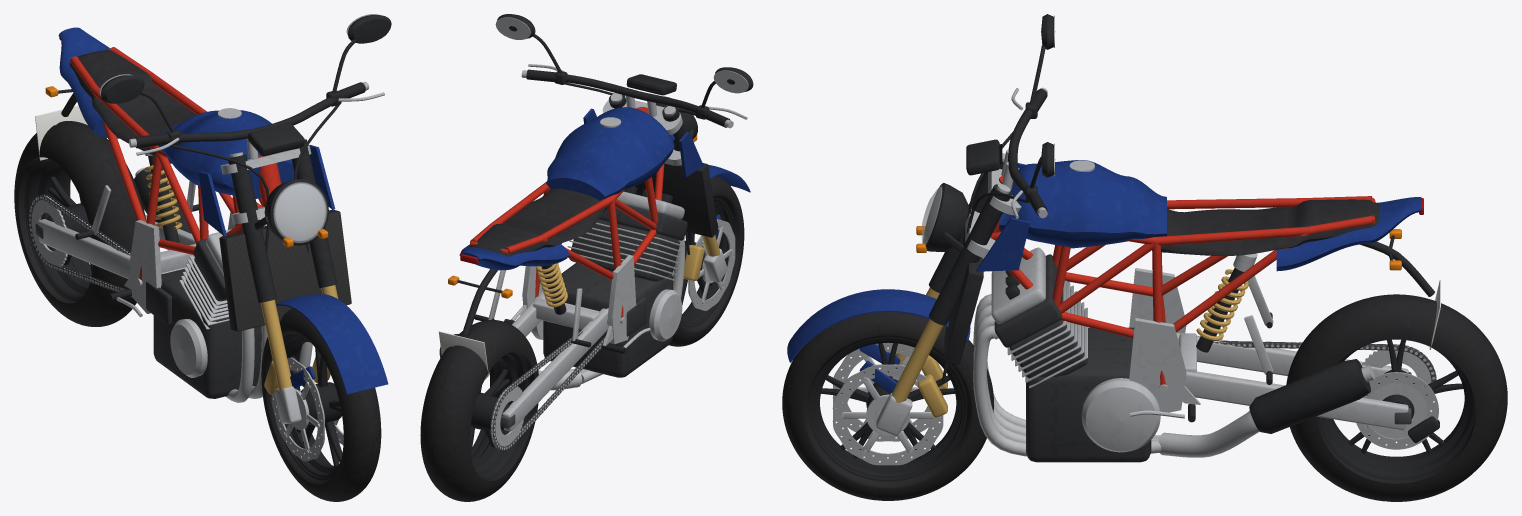
Rendered from sport-motorcycle-naked-sport-bike-fc4c9758.glb.
The picture shows the model from 3 angles, left to right: view 1: azimuth 30°, elevation 25°; view 2: azimuth 150°, elevation 25°; view 3: azimuth 270°, elevation 25°; orthographic projection. The views are drawn at different scales.
Visible parts, largest first — view 1: Sport bike - Tyre rubber, Sport bike - Cast aluminium, Sport bike - Tank and tail paint, metallic blue, Sport bike - Satin black, Sport bike - Engine castings, black, Sport bike - Wheel paint, black, Sport bike - Radiator core, Sport bike - Trellis frame, red, Sport bike - Seat, black vinyl, Sport bike - Gold anodised / TiN coating, Sport bike - Clear lamp lens (alpha-blended), Sport bike - Brushed steel (+5 smaller); view 2: Sport bike - Cast aluminium, Sport bike - Tyre rubber, Sport bike - Tank and tail paint, metallic blue, Sport bike - Engine castings, black, Sport bike - Satin black, Sport bike - Wheel paint, black, Sport bike - Seat, black vinyl, Sport bike - Trellis frame, red, Sport bike - Brushed steel, Sport bike - Gold anodised / TiN coating, Sport bike - Dark steel (chain, fasteners), Sport bike - Black rubber and plastic (+3 smaller); view 3: Sport bike - Tyre rubber, Sport bike - Cast aluminium, Sport bike - Tank and tail paint, metallic blue, Sport bike - Satin black, Sport bike - Engine castings, black, Sport bike - Wheel paint, black, Sport bike - Trellis frame, red, Sport bike - Seat, black vinyl, Sport bike - Brushed steel, Sport bike - Brake disc steel, Sport bike - Gold anodised / TiN coating, Sport bike - Black rubber and plastic (+1 smaller).
Part boxes in pixels (<box>): Sport bike - Tyre rubber: <box>14,121,381,501</box>; Sport bike - Cast aluminium: <box>31,82,384,453</box>; Sport bike - Tank and tail paint, metallic blue: <box>58,27,388,394</box>; Sport bike - Satin black: <box>58,15,391,331</box>; Sport bike - Engine castings, black: <box>146,239,261,398</box>; Sport bike - Wheel paint, black: <box>24,158,342,480</box>; Sport bike - Radiator core: <box>226,212,351,331</box>; Sport bike - Trellis frame, red: <box>70,47,281,280</box>; Sport bike - Seat, black vinyl: <box>69,50,196,163</box>; Sport bike - Gold anodised / TiN coating: <box>144,165,338,394</box>; Sport bike - Clear lamp lens (alpha-blended): <box>273,182,327,242</box>; Sport bike - Brushed steel: <box>29,167,312,402</box>; Sport bike - Cast aluminium: <box>485,64,747,447</box>; Sport bike - Tyre rubber: <box>420,176,744,501</box>; Sport bike - Tank and tail paint, metallic blue: <box>459,107,750,270</box>; Sport bike - Engine castings, black: <box>543,205,687,377</box>; Sport bike - Satin black: <box>439,14,753,357</box>; Sport bike - Wheel paint, black: <box>469,198,735,479</box>; Sport bike - Seat, black vinyl: <box>469,188,607,256</box>; Sport bike - Trellis frame, red: <box>470,106,664,318</box>; Sport bike - Brushed steel: <box>491,237,684,449</box>; Sport bike - Gold anodised / TiN coating: <box>536,235,720,307</box>; Sport bike - Dark steel (chain, fasteners): <box>490,329,605,450</box>; Sport bike - Black rubber and plastic: <box>474,69,730,354</box>; Sport bike - Tyre rubber: <box>782,294,1507,501</box>; Sport bike - Cast aluminium: <box>840,87,1431,453</box>; Sport bike - Tank and tail paint, metallic blue: <box>787,160,1421,393</box>; Sport bike - Satin black: <box>925,14,1439,442</box>; Sport bike - Engine castings, black: <box>994,254,1151,462</box>; Sport bike - Wheel paint, black: <box>808,338,1474,481</box>; Sport bike - Trellis frame, red: <box>990,176,1375,384</box>; Sport bike - Seat, black vinyl: <box>1161,199,1379,255</box>; Sport bike - Brushed steel: <box>973,294,1435,457</box>; Sport bike - Brake disc steel: <box>832,342,1438,465</box>; Sport bike - Gold anodised / TiN coating: <box>891,269,1248,417</box>; Sport bike - Black rubber and plastic: <box>941,89,1272,422</box>.
Bounding box in the file's own units: 1.01 × 1.3 × 2.06.
Materials: 20 (20 with a texture image).
